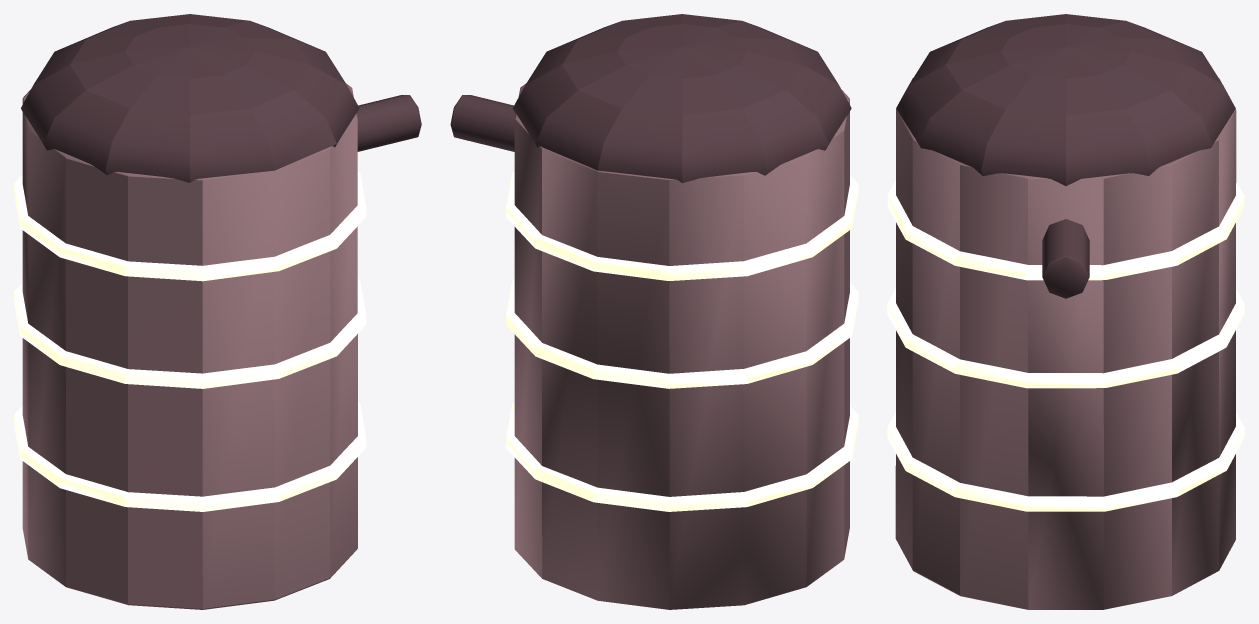
Rendered from SM_Schlachthof_Boiler_LOD1.fbx.
3 views of the same model, side by side, from view 1: azimuth 30°, elevation 25°; view 2: azimuth 150°, elevation 25°; view 3: azimuth 270°, elevation 25° (orthographic).
Parts seen in each view (by area): view 1: SM_Schlachthof_Boiler_LOD1; view 2: SM_Schlachthof_Boiler_LOD1; view 3: SM_Schlachthof_Boiler_LOD1.
Boxes of the visible parts, x1,y1,x2,y2 form: SM_Schlachthof_Boiler_LOD1: (14,14,421,609); SM_Schlachthof_Boiler_LOD1: (450,14,858,609); SM_Schlachthof_Boiler_LOD1: (887,14,1244,609).
Bounding box in the file's own units: 2.52 × 3.2 × 2.1.
